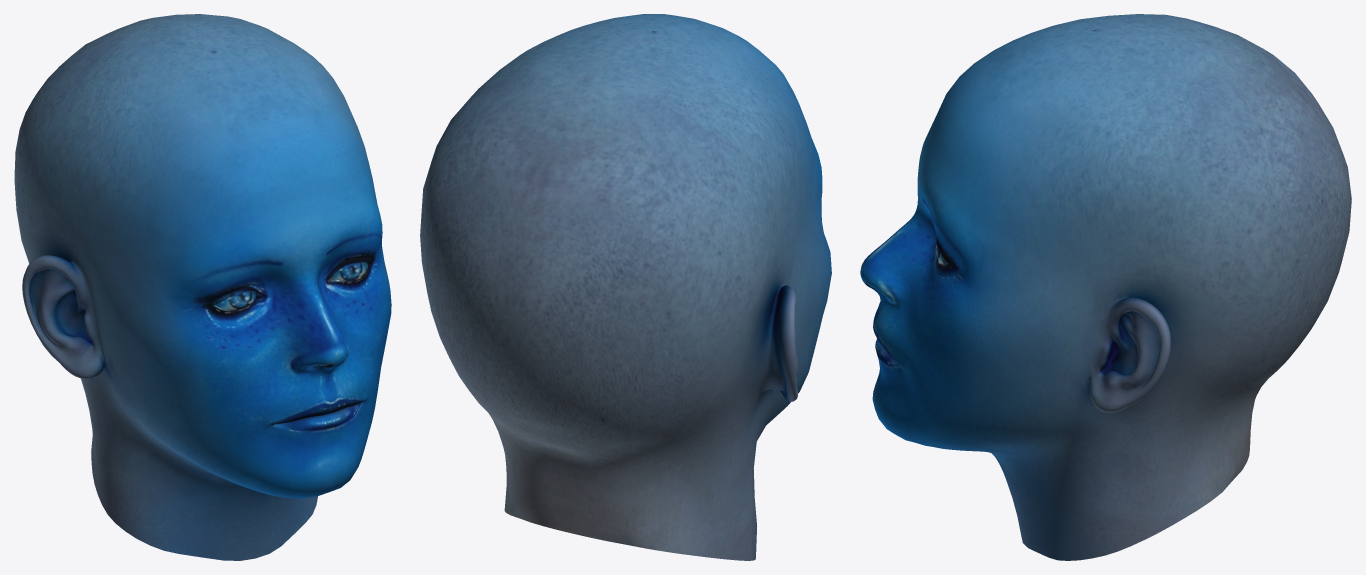
The model's file is Female Blue Alien Face model.fbx.
The picture shows the model from 3 angles, left to right: view 1: azimuth 30°, elevation 25°; view 2: azimuth 150°, elevation 25°; view 3: azimuth 270°, elevation 25°; orthographic projection. The views are drawn at different scales.
Parts seen in each view (by area): view 1: Head; view 2: Head; view 3: Head.
Boxes of the visible parts, x1,y1,x2,y2 form: Head: (14,14,391,560); Head: (420,14,831,560); Head: (860,14,1351,560).
Size of the model in its own units: 0.189 by 0.2645 by 0.2331.
